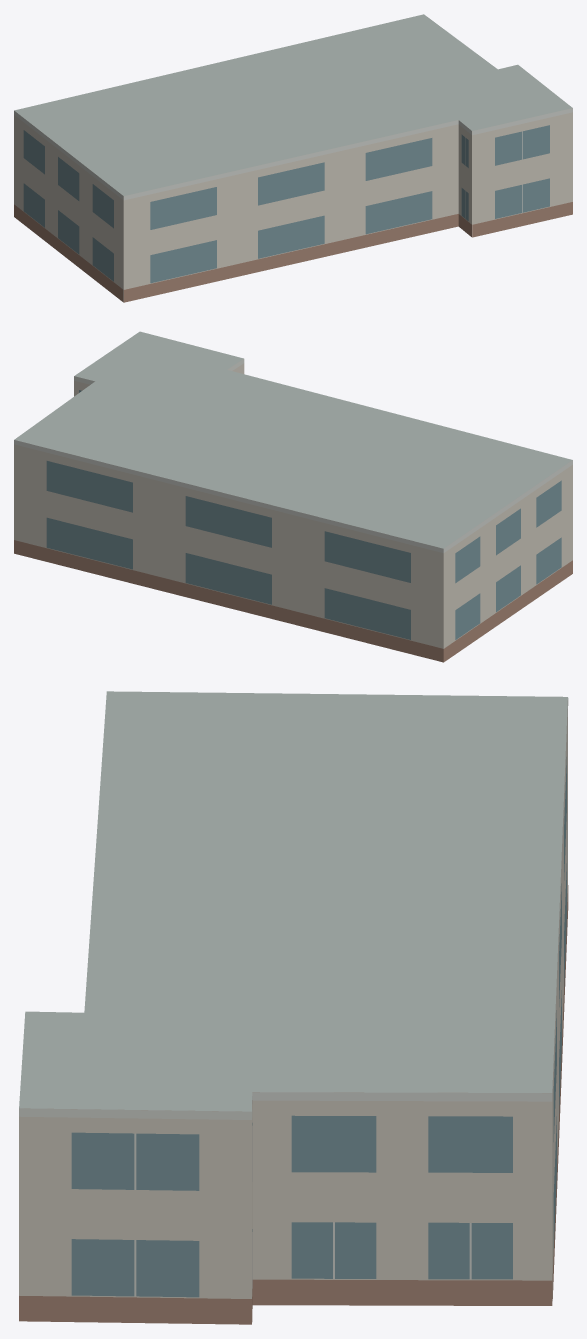
File: survey-upis-32866454.glb
3 renders of one model, top to bottom at view 1: azimuth 30°, elevation 25°; view 2: azimuth 150°, elevation 25°; view 3: azimuth 270°, elevation 25°, orthographic. The views are drawn at different scales.
Parts seen in each view (by area): view 1: survey-upis-32866454.tmp; view 2: survey-upis-32866454.tmp; view 3: survey-upis-32866454.tmp.
Boxes of the visible parts, x1,y1,x2,y2 form: survey-upis-32866454.tmp: [14, 14, 572, 302]; survey-upis-32866454.tmp: [14, 331, 572, 662]; survey-upis-32866454.tmp: [19, 691, 568, 1324].
Size of the model in its own units: 25.83 by 6.1 by 14.26.
